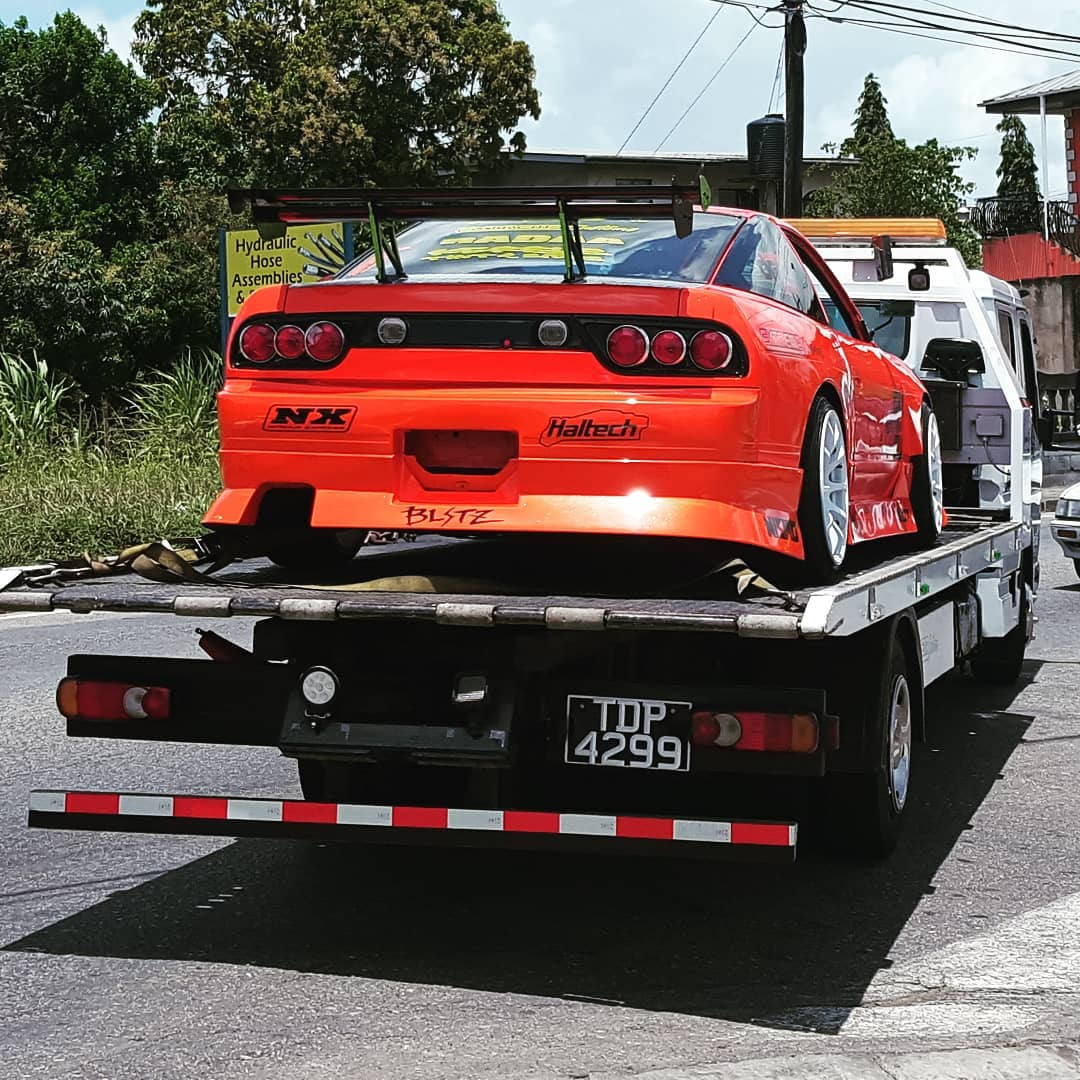License-Plate: (571, 694, 692, 763)
